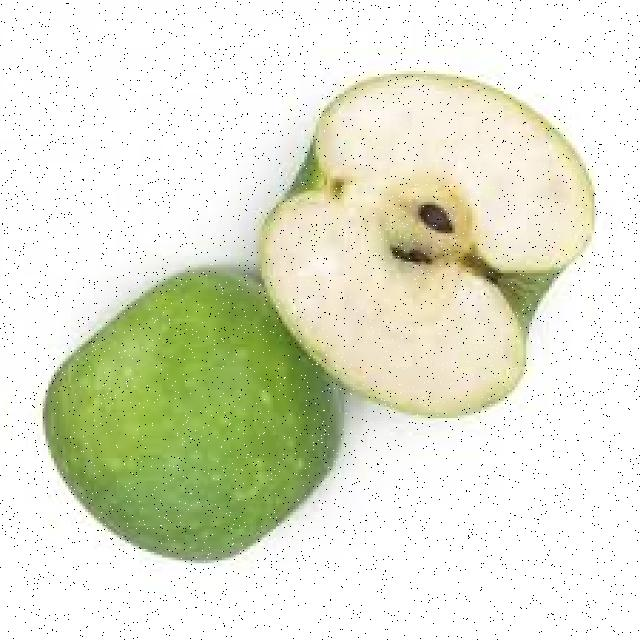Apple: (258, 75, 594, 417), (44, 269, 338, 559)
